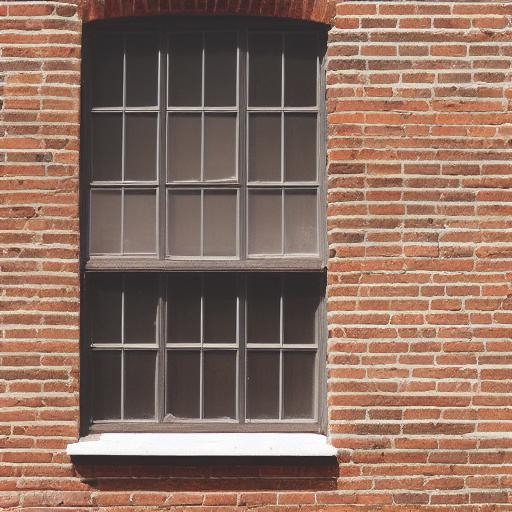Window: (67, 0, 340, 460)
